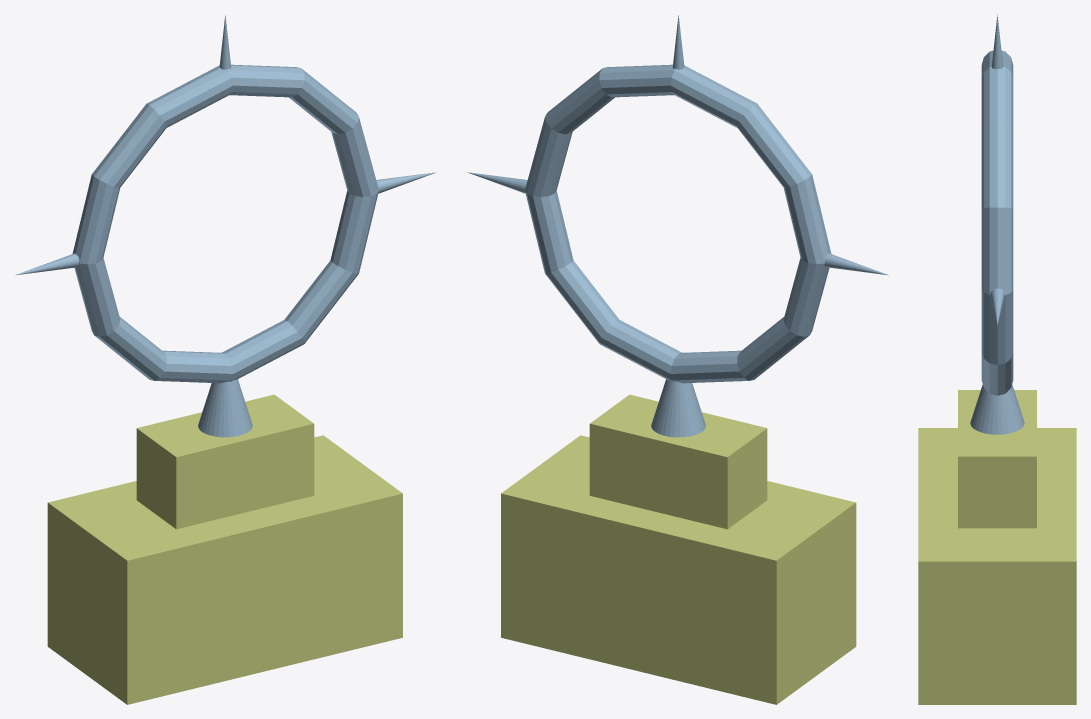
File: player.fbx
3 views of the same model, side by side, from view 1: azimuth 30°, elevation 25°; view 2: azimuth 150°, elevation 25°; view 3: azimuth 270°, elevation 25° (orthographic).
Visible parts, largest first — view 1: Cube; view 2: Cube; view 3: Cube.
Part boxes in pixels (x1,y1,x2,y2): Cube: (15,15,436,704); Cube: (467,15,888,704); Cube: (918,14,1076,704).
Size of the model in its own units: 6.15 by 8.71 by 2.
